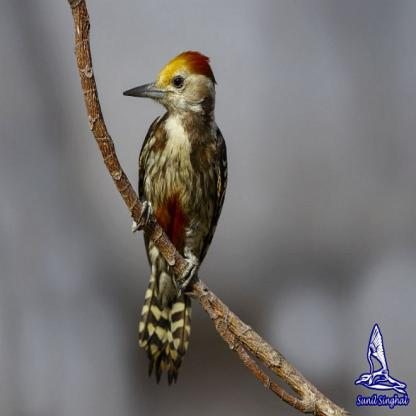Burung: (122, 51, 228, 382)
